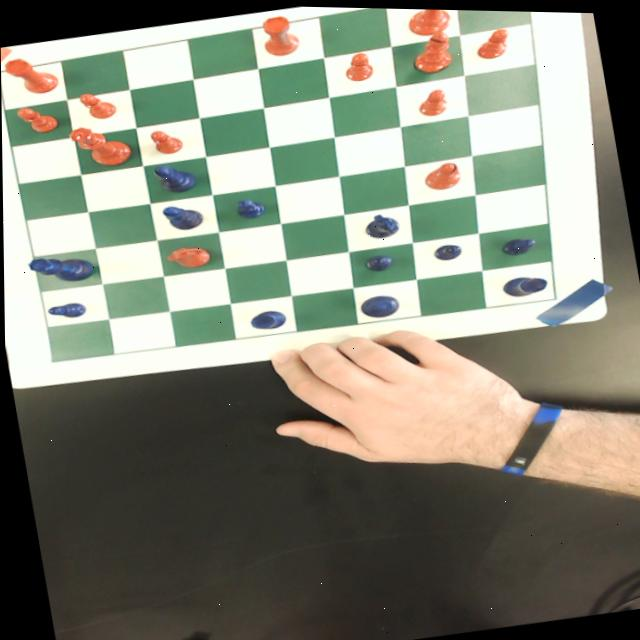B: (152, 159, 198, 194), (159, 199, 206, 232)
K: (357, 290, 401, 318)
N: (357, 207, 407, 240)
P: (45, 299, 87, 320), (500, 232, 538, 254), (234, 194, 267, 219), (430, 238, 463, 260), (363, 250, 394, 270)
Q: (25, 248, 94, 288)
R: (499, 269, 550, 297), (247, 306, 286, 331)
b: (407, 27, 456, 73), (421, 158, 462, 190)
k: (402, 7, 460, 32)
n: (164, 241, 214, 271)
p: (14, 102, 61, 136), (472, 23, 515, 58), (78, 88, 118, 121), (413, 83, 453, 116), (340, 48, 378, 82), (147, 125, 184, 156)
q: (67, 119, 134, 171)
r: (2, 52, 59, 99), (259, 11, 301, 57)
